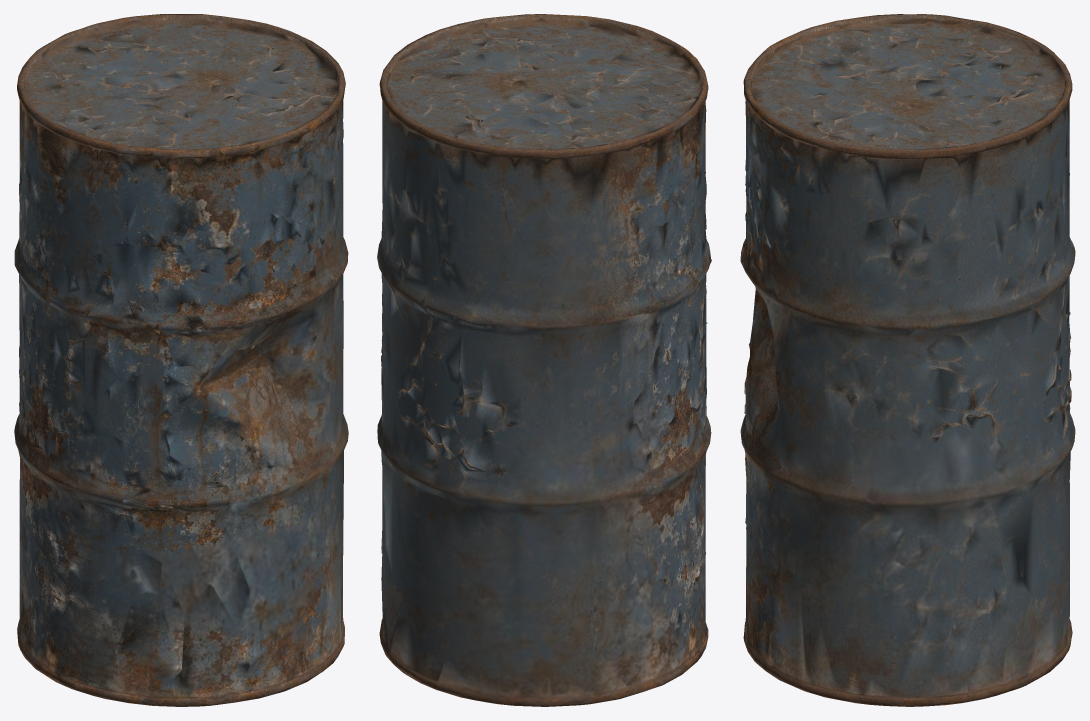
File: barrel.glb
The picture shows the model from 3 angles, left to right: view 1: azimuth 30°, elevation 25°; view 2: azimuth 150°, elevation 25°; view 3: azimuth 270°, elevation 25°; orthographic projection.
Size of the model in its own units: 1.04 by 1.9 by 1.04.
Materials: 1 (1 with a texture image).
